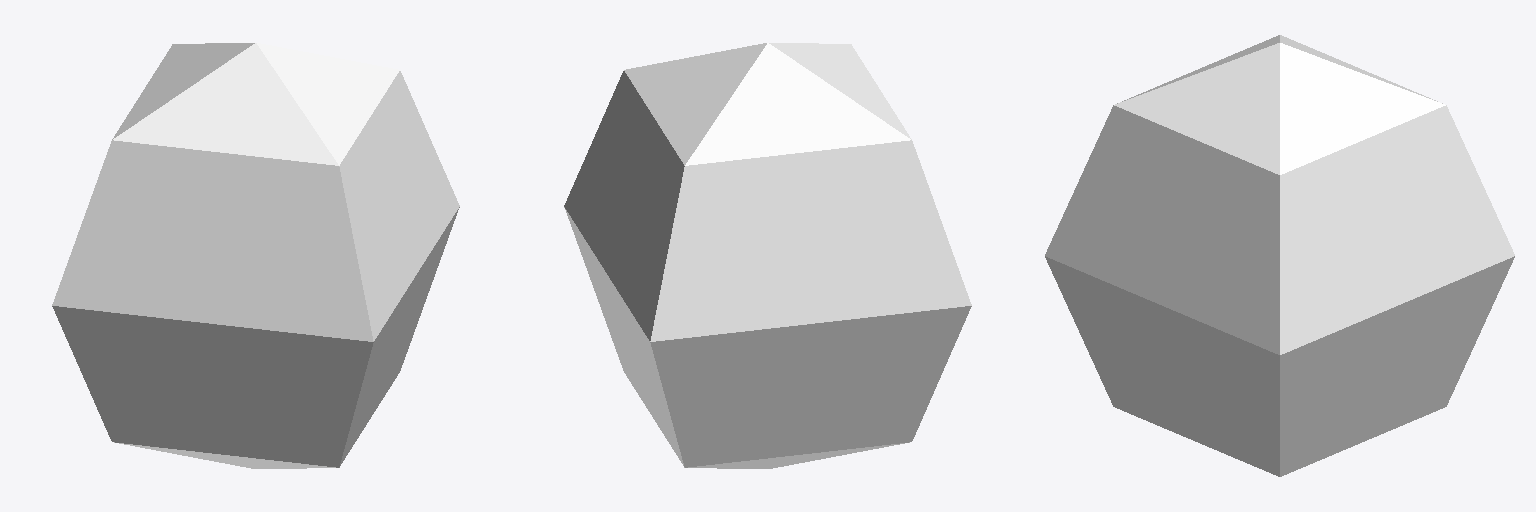
Rendered from lightball_1.obj.
The picture shows the model from 3 angles: view 1: azimuth 30°, elevation 25°; view 2: azimuth 150°, elevation 25°; view 3: azimuth 270°, elevation 25°; orthographic projection.
Visible parts, largest first — view 1: LightBall_Sphere.001; view 2: LightBall_Sphere.001; view 3: LightBall_Sphere.001.
Part boxes in pixels (x1,y1,x2,y2): LightBall_Sphere.001: (52, 43, 459, 468); LightBall_Sphere.001: (564, 43, 971, 468); LightBall_Sphere.001: (1045, 35, 1514, 476).
Size of the model in its own units: 1 by 1 by 1.